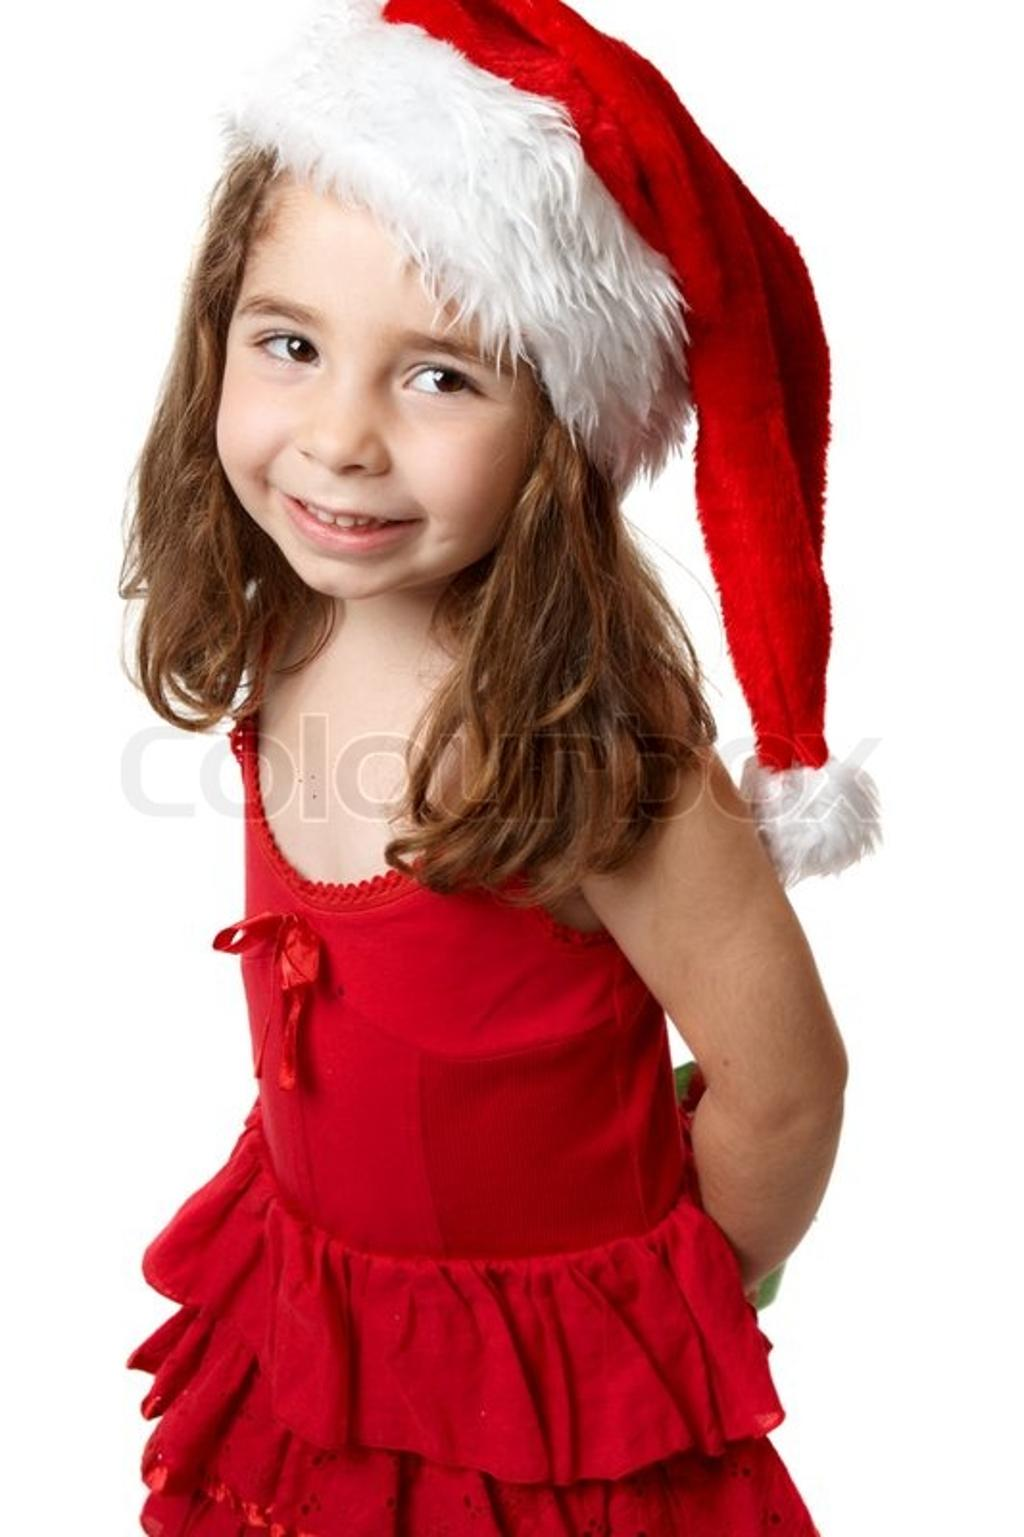face: (216, 171, 549, 597)
